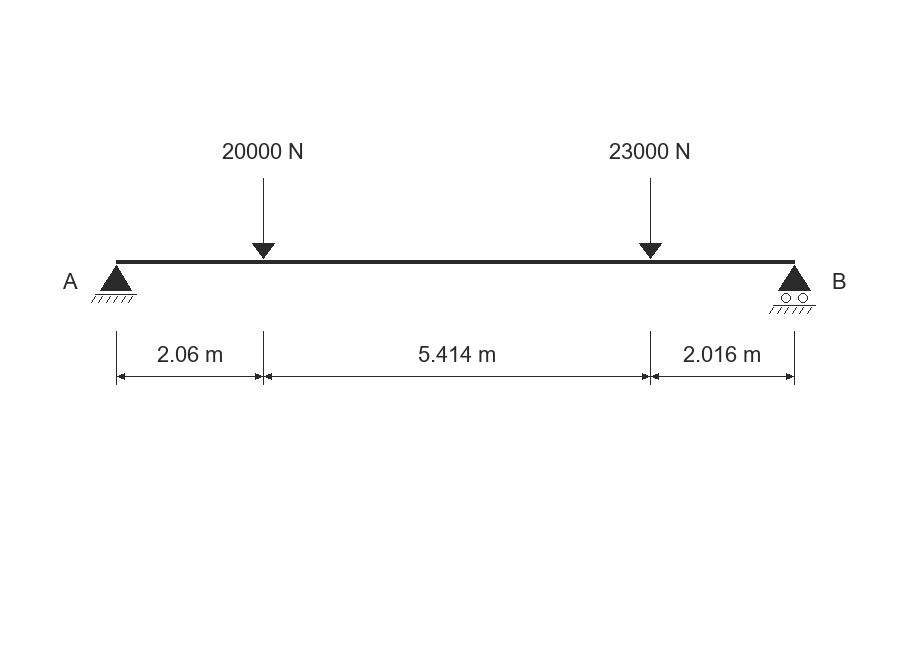pin_support: (91, 265, 137, 303)
point_load: (252, 178, 275, 259), (639, 178, 662, 259)
roller_support: (769, 265, 816, 314)
